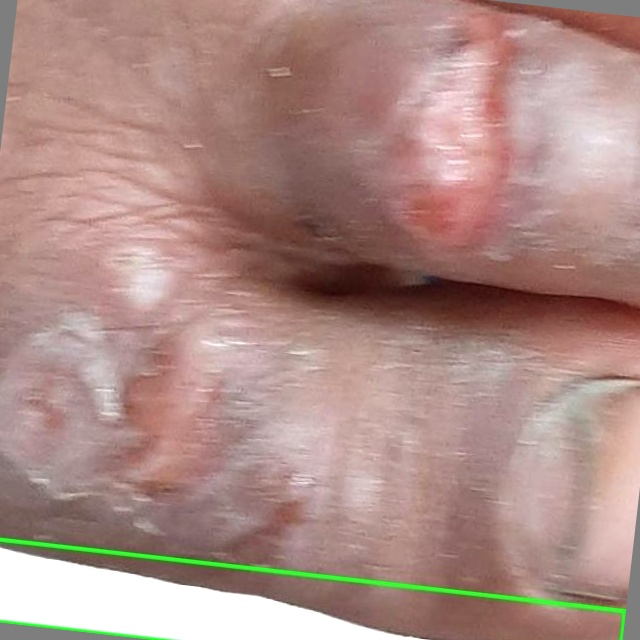Eczema: (0, 539, 625, 639)
